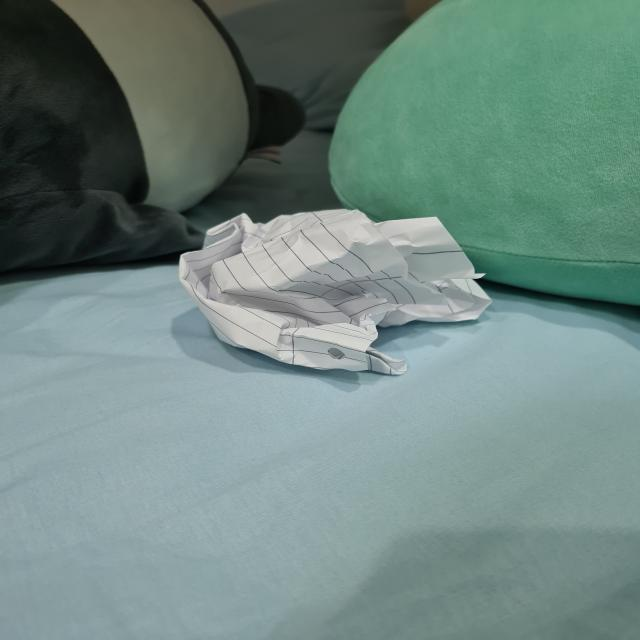Paper: (181, 212, 494, 379)
